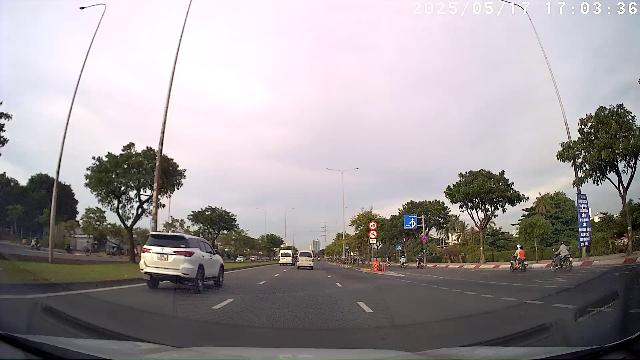127-toc-do-toi-da-60: (368, 221, 378, 230)
